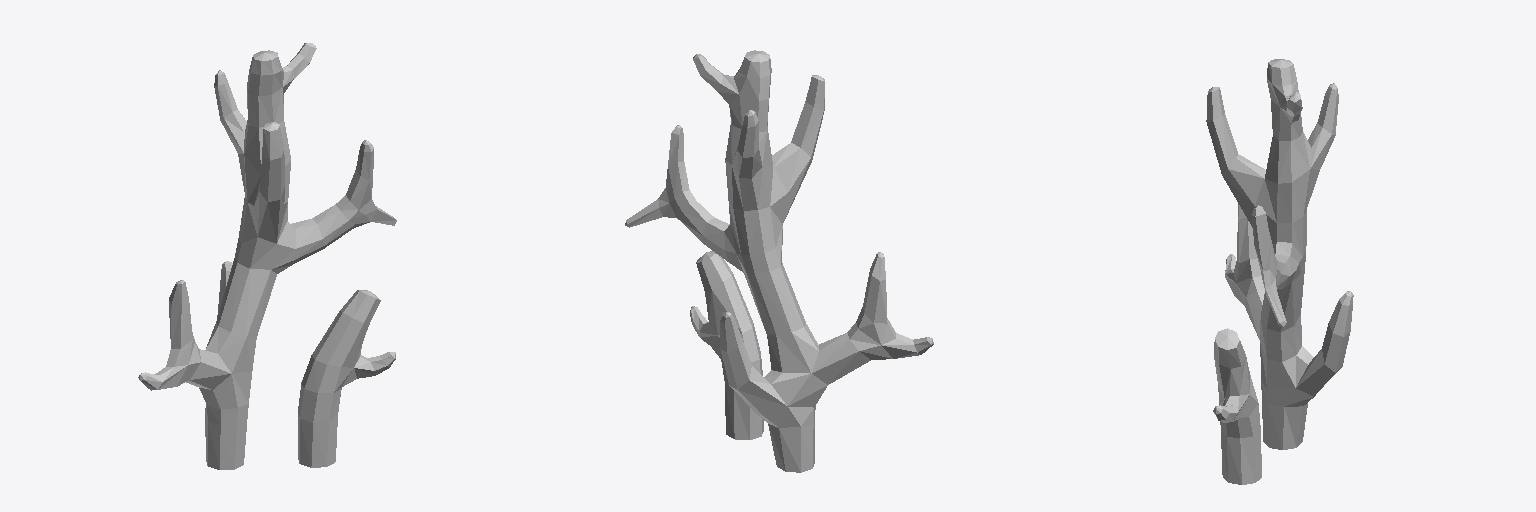
File: Coral_B_02_LOD1.obj
3 views of the same model, side by side, from view 1: azimuth 30°, elevation 25°; view 2: azimuth 150°, elevation 25°; view 3: azimuth 270°, elevation 25° (orthographic).
Visible parts, largest first — view 1: Coral_B_02_LOD1_Cylinder.378; view 2: Coral_B_02_LOD1_Cylinder.378; view 3: Coral_B_02_LOD1_Cylinder.378.
Boxes of the visible parts, box(x1,y1,x2,y2) form: Coral_B_02_LOD1_Cylinder.378: box(138, 43, 396, 469); Coral_B_02_LOD1_Cylinder.378: box(625, 50, 933, 472); Coral_B_02_LOD1_Cylinder.378: box(1206, 59, 1353, 484).
Size of the model in its own units: 7.04 by 9.58 by 3.18.